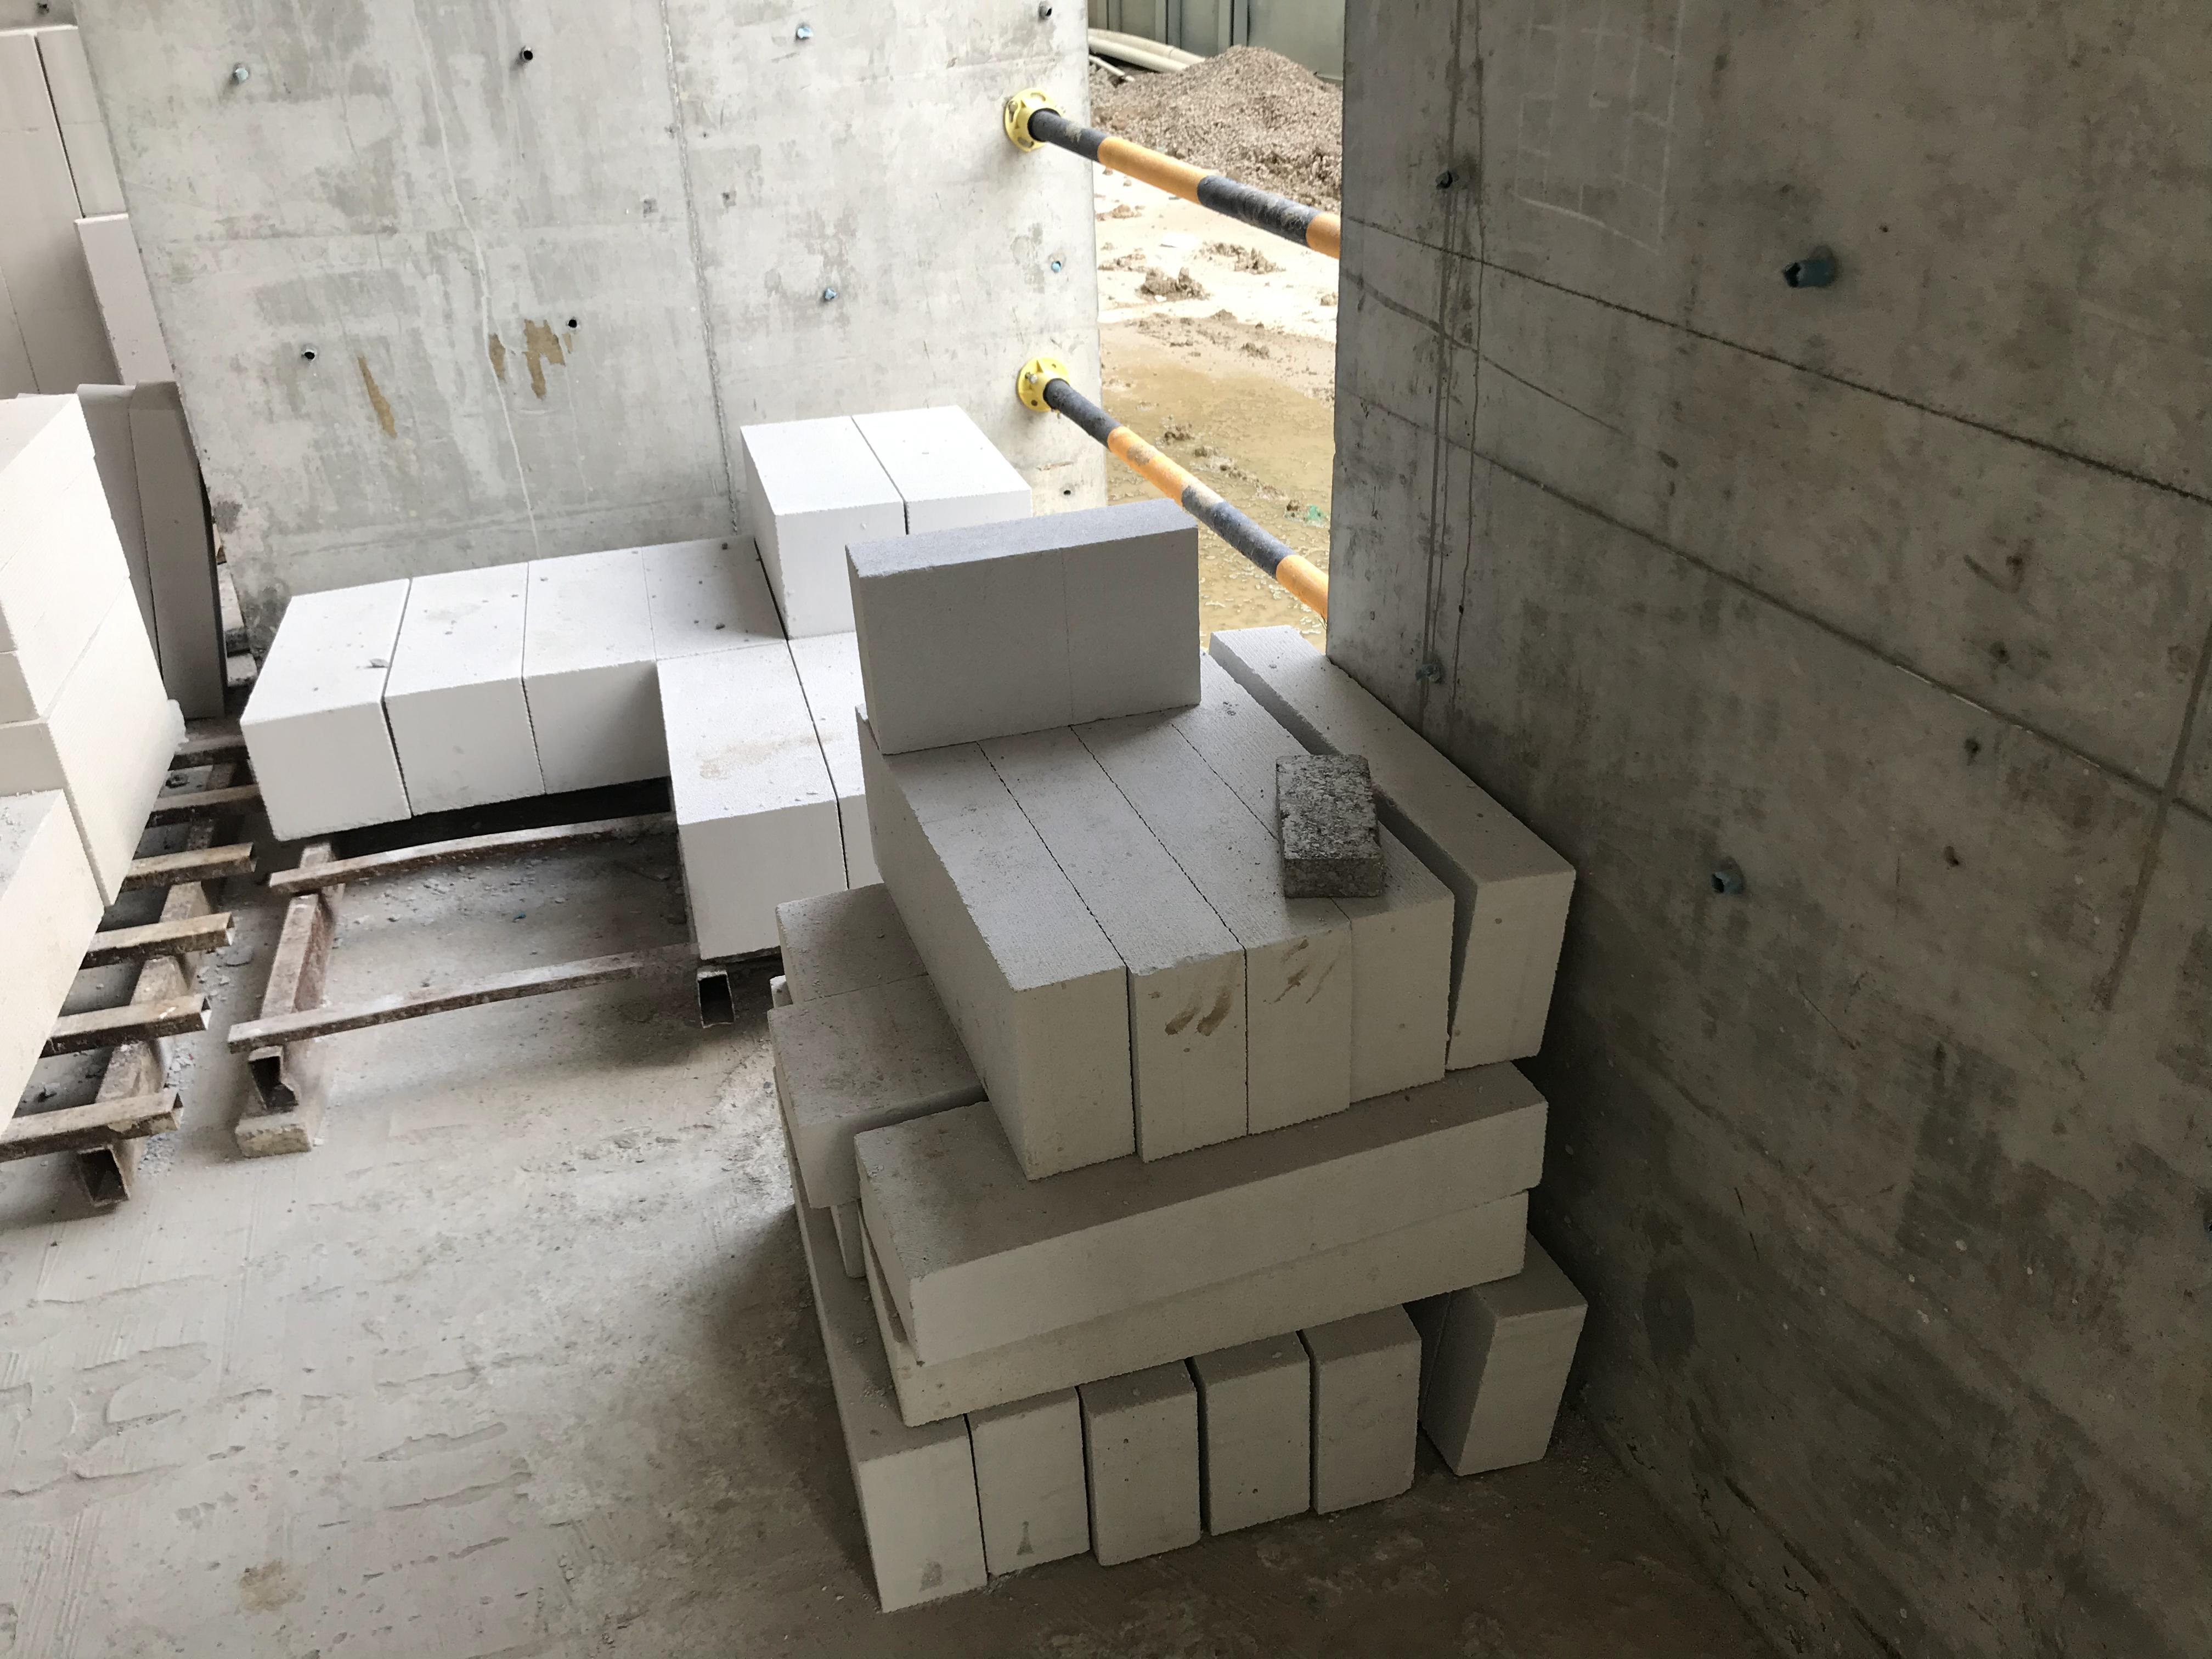brick: (777, 481, 1597, 1619), (235, 394, 1066, 990), (0, 30, 219, 1155)
